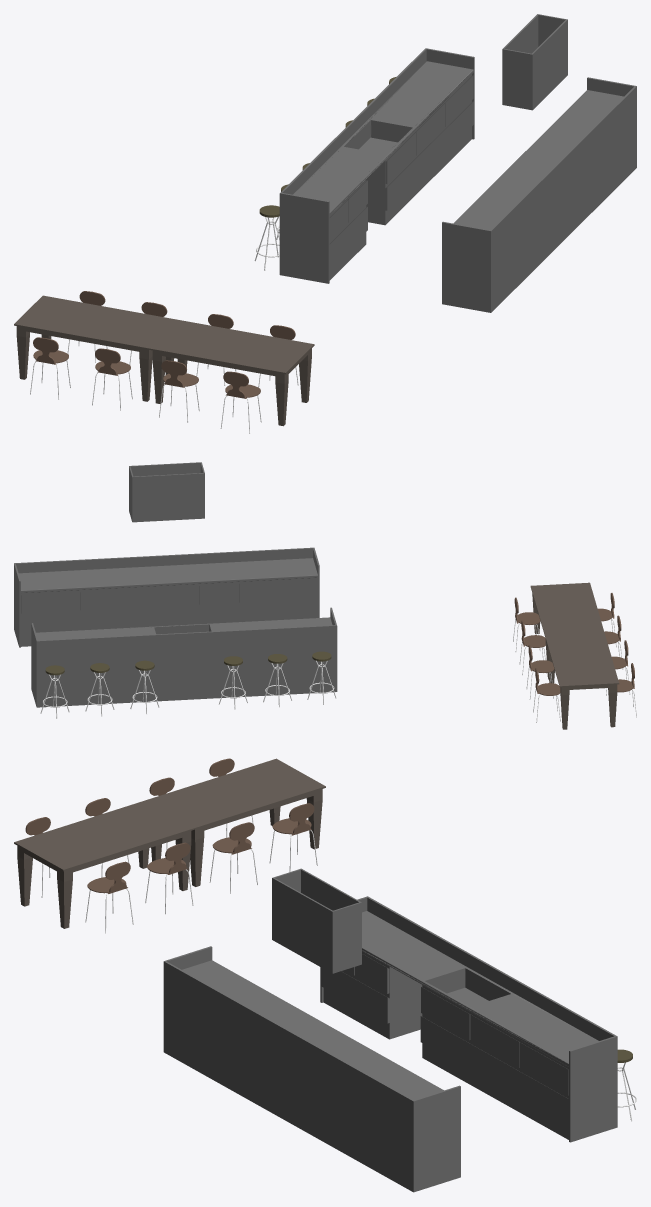
The model's file is rac_basic_sample_project_Level_1_IfcFurnishingElement.dae.
The picture shows the model from 3 angles, top to bottom: view 1: azimuth 30°, elevation 25°; view 2: azimuth 150°, elevation 25°; view 3: azimuth 270°, elevation 25°; orthographic projection. The views are drawn at different scales.
Parts seen in each view (by area): view 1: 29jzdd0Ab5sOIOupfzxDfN, 3Ut0AFdIb6Mh5zrboS1nCa, 1mNYMX4dvDThNrJdPk$si3, 1mNYMX4dvDThNrJdPk$sho, 3vi8Xy_cHA1R$gUoZ0tWMO, 1mNYMX4dvDThNrJdPk$suM, 1mNYMX4dvDThNrJdPk$suL, 1mNYMX4dvDThNrJdPk$sud, 1mNYMX4dvDThNrJdPk$s$E, 1mNYMX4dvDThNrJdPk$sOO; view 2: 3Ut0AFdIb6Mh5zrboS1nCa, 29jzdd0Ab5sOIOupfzxDfN, 3vi8Xy_cHA1R$gUoZ0tWMO, 1mNYMX4dvDThNrJdPk$sho, 1mNYMX4dvDThNrJdPk$si3, 1mNYMX4dvDThNrJdPk$sOO, 1mNYMX4dvDThNrJdPk$s13, 1mNYMX4dvDThNrJdPk$sQ8, 1mNYMX4dvDThNrJdPk$sQD, 1mNYMX4dvDThNrJdPk$sTF, 1mNYMX4dvDThNrJdPk$sP3, 1mNYMX4dvDThNrJdPk$su$ (+3 smaller); view 3: 3Ut0AFdIb6Mh5zrboS1nCa, 29jzdd0Ab5sOIOupfzxDfN, 1mNYMX4dvDThNrJdPk$si3, 1mNYMX4dvDThNrJdPk$sho, 3vi8Xy_cHA1R$gUoZ0tWMO, 1mNYMX4dvDThNrJdPk$suK, 1mNYMX4dvDThNrJdPk$suR, 1mNYMX4dvDThNrJdPk$su_, 1mNYMX4dvDThNrJdPk$su$.
Part boxes in pixels (x1=…): 29jzdd0Ab5sOIOupfzxDfN: x1=279, y1=48, x2=474, y2=283; 3Ut0AFdIb6Mh5zrboS1nCa: x1=442, y1=77, x2=636, y2=312; 1mNYMX4dvDThNrJdPk$si3: x1=150, y1=320, x2=314, y2=426; 1mNYMX4dvDThNrJdPk$sho: x1=14, y1=295, x2=177, y2=401; 3vi8Xy_cHA1R$gUoZ0tWMO: x1=502, y1=14, x2=567, y2=110; 1mNYMX4dvDThNrJdPk$suM: x1=220, y1=371, x2=261, y2=433; 1mNYMX4dvDThNrJdPk$suL: x1=159, y1=360, x2=199, y2=422; 1mNYMX4dvDThNrJdPk$sud: x1=92, y1=348, x2=132, y2=410; 1mNYMX4dvDThNrJdPk$s$E: x1=30, y1=337, x2=70, y2=399; 1mNYMX4dvDThNrJdPk$sOO: x1=254, y1=205, x2=279, y2=270; 3Ut0AFdIb6Mh5zrboS1nCa: x1=14, y1=547, x2=319, y2=647; 29jzdd0Ab5sOIOupfzxDfN: x1=31, y1=607, x2=337, y2=707; 3vi8Xy_cHA1R$gUoZ0tWMO: x1=129, y1=462, x2=204, y2=522; 1mNYMX4dvDThNrJdPk$sho: x1=545, y1=633, x2=619, y2=729; 1mNYMX4dvDThNrJdPk$si3: x1=530, y1=582, x2=604, y2=679; 1mNYMX4dvDThNrJdPk$sOO: x1=307, y1=651, x2=336, y2=704; 1mNYMX4dvDThNrJdPk$s13: x1=40, y1=665, x2=69, y2=718; 1mNYMX4dvDThNrJdPk$sQ8: x1=85, y1=663, x2=114, y2=716; 1mNYMX4dvDThNrJdPk$sQD: x1=219, y1=656, x2=247, y2=709; 1mNYMX4dvDThNrJdPk$sTF: x1=130, y1=660, x2=159, y2=714; 1mNYMX4dvDThNrJdPk$sP3: x1=263, y1=654, x2=292, y2=707; 1mNYMX4dvDThNrJdPk$su$: x1=533, y1=668, x2=560, y2=722; 3Ut0AFdIb6Mh5zrboS1nCa: x1=163, y1=946, x2=460, y2=1192; 29jzdd0Ab5sOIOupfzxDfN: x1=320, y1=896, x2=617, y2=1142; 1mNYMX4dvDThNrJdPk$si3: x1=14, y1=800, x2=194, y2=928; 1mNYMX4dvDThNrJdPk$sho: x1=145, y1=758, x2=325, y2=886; 3vi8Xy_cHA1R$gUoZ0tWMO: x1=272, y1=868, x2=361, y2=973; 1mNYMX4dvDThNrJdPk$suK: x1=85, y1=861, x2=133, y2=933; 1mNYMX4dvDThNrJdPk$suR: x1=145, y1=842, x2=193, y2=914; 1mNYMX4dvDThNrJdPk$su_: x1=209, y1=822, x2=257, y2=893; 1mNYMX4dvDThNrJdPk$su$: x1=269, y1=803, x2=317, y2=871.
Bounding box in the file's own units: 9.68 × 6.82 × 2.7.
